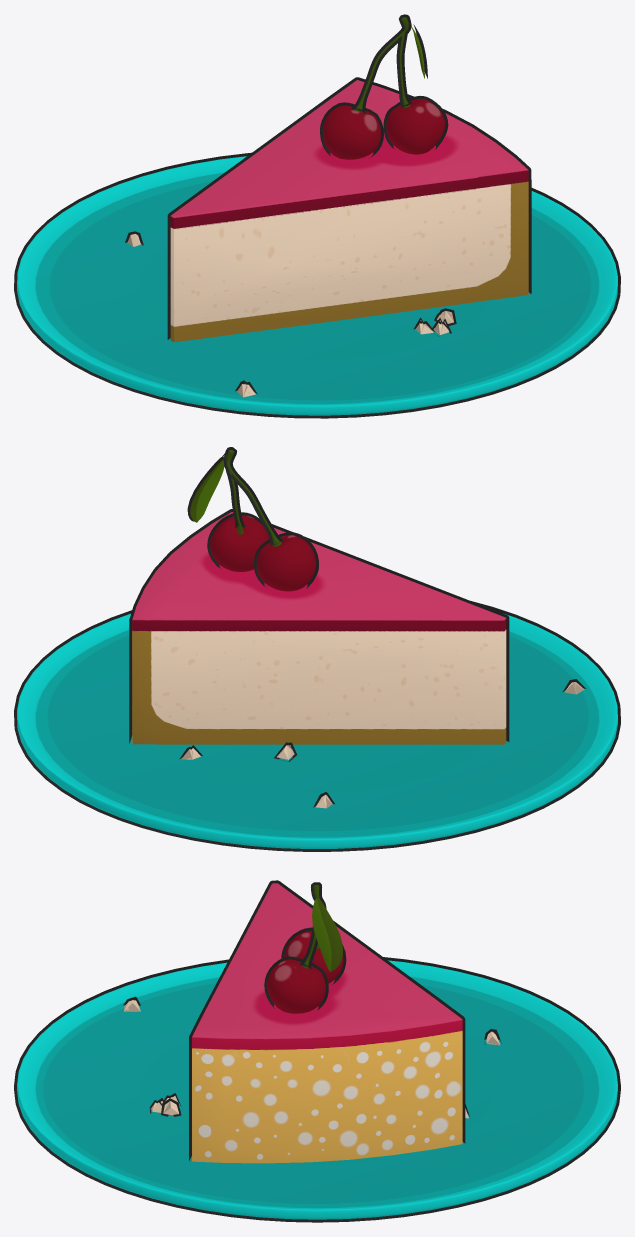
3 views of the same model, one above another, from view 1: azimuth 30°, elevation 25°; view 2: azimuth 150°, elevation 25°; view 3: azimuth 270°, elevation 25° (orthographic).
Visible parts, largest first — view 1: Plate_1, Cake_0, Cake.001_2, Plate.001_3; view 2: Cake_0, Plate_1, Cake.001_2, Plate.001_3; view 3: Plate_1, Cake_0, Plate.001_3, Cake.001_2.
Boxes of the visible parts, bbox=[...] form: Plate_1: bbox=[17, 156, 617, 415]; Cake_0: bbox=[127, 17, 528, 397]; Cake.001_2: bbox=[125, 14, 531, 394]; Plate.001_3: bbox=[14, 152, 620, 418]; Cake_0: bbox=[132, 450, 584, 808]; Plate_1: bbox=[17, 613, 617, 848]; Cake.001_2: bbox=[129, 447, 585, 807]; Plate.001_3: bbox=[14, 601, 620, 851]; Plate_1: bbox=[17, 960, 617, 1219]; Cake_0: bbox=[124, 883, 500, 1163]; Plate.001_3: bbox=[14, 957, 620, 1222]; Cake.001_2: bbox=[123, 880, 501, 1160].
Bounding box in the file's own units: 4.42 × 2.11 × 4.42.
3 materials, 2 textured.
